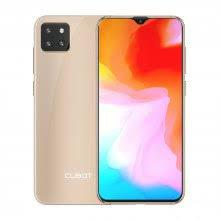Smartphone: (103, 15, 185, 203), (34, 17, 103, 205)
